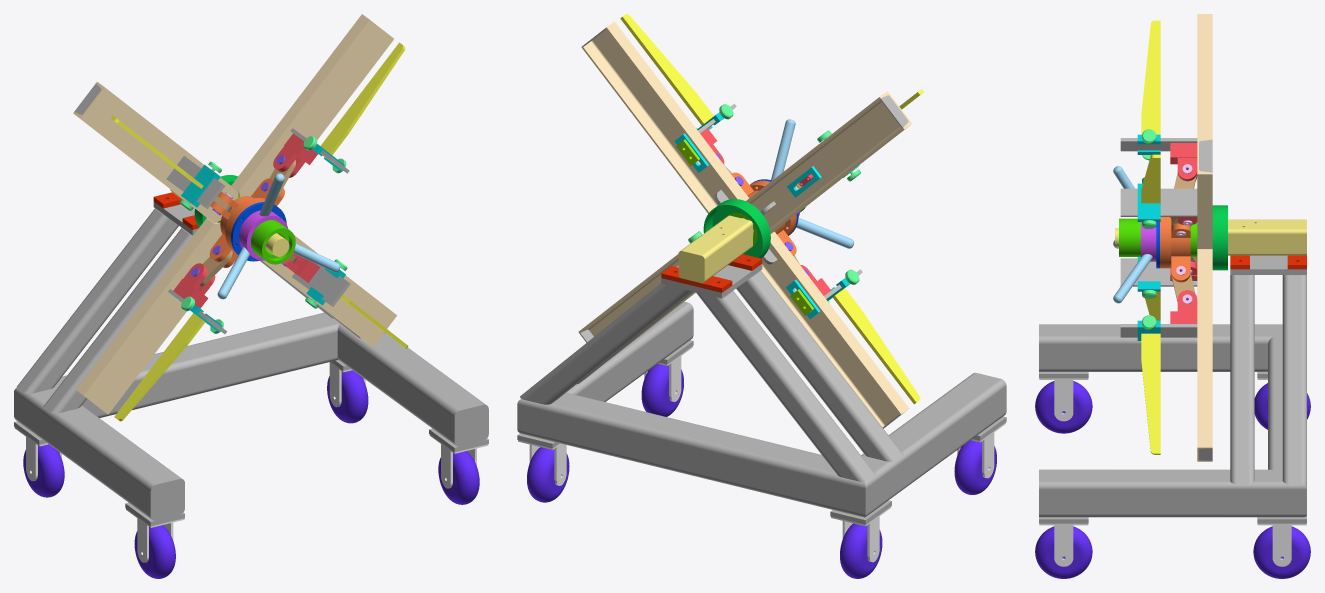
The picture shows the model from 3 angles, left to right: view 1: azimuth 30°, elevation 25°; view 2: azimuth 150°, elevation 25°; view 3: azimuth 270°, elevation 25°; orthographic projection. The views are drawn at different scales.
Visible parts, largest first — view 1: BANCADA DEVANADOR DUMAR-1, canal tornillo-9, canal tornillo-8, canal tornillo-10, canal tornillo-11, placa uno-2 (×2), bloque arrastre-1 (×2), regleta dado-1, regleta dado-4, cruceta #2-1, ruedas-3, ruedas-2 (+7 smaller); view 2: BANCADA DEVANADOR DUMAR-1, canal tornillo-8, canal tornillo-9, canal tornillo-10, eje soporte-1, regleta dado-4, regleta dado-1, canal tornillo-11, ruedas-2, ruedas-4, manzana freno-1, ruedas-3 (+7 smaller); view 3: BANCADA DEVANADOR DUMAR-1, placa uno-2 (×4), canal tornillo-11, eje soporte-1, canal tornillo-10, regleta dado-2, ruedas-3, ruedas-1, ruedas-2, regleta dado-3, cruceta #2-1, bloque arrastre-1 (×2) (+12 smaller).
Boxes of the visible parts, x1,y1,x2,y2 form: BANCADA DEVANADOR DUMAR-1: (14, 202, 488, 526); canal tornillo-9: (76, 218, 222, 414); canal tornillo-8: (231, 14, 393, 197); canal tornillo-10: (73, 82, 238, 222); canal tornillo-11: (262, 235, 396, 346); placa uno-2 (×2): (166, 156, 350, 306); bloque arrastre-1 (×2): (173, 133, 317, 308); regleta dado-1: (320, 42, 405, 155); regleta dado-4: (114, 313, 205, 421); cruceta #2-1: (209, 178, 284, 267); ruedas-3: (134, 525, 175, 578); ruedas-2: (327, 370, 368, 423); BANCADA DEVANADOR DUMAR-1: (517, 264, 1006, 524); canal tornillo-8: (581, 21, 749, 213); canal tornillo-9: (761, 231, 909, 427); canal tornillo-10: (746, 91, 912, 233); eje soporte-1: (678, 215, 753, 283); regleta dado-4: (832, 288, 920, 404); regleta dado-1: (620, 14, 713, 125); canal tornillo-11: (578, 254, 695, 359); ruedas-2: (527, 447, 569, 502); ruedas-4: (840, 523, 882, 578); manzana freno-1: (703, 199, 770, 258); ruedas-3: (954, 440, 996, 494); BANCADA DEVANADOR DUMAR-1: (1039, 255, 1306, 523); placa uno-2 (×4): (1120, 138, 1197, 337); canal tornillo-11: (1197, 249, 1212, 461); eje soporte-1: (1115, 219, 1306, 255); canal tornillo-10: (1197, 14, 1212, 137); regleta dado-2: (1141, 333, 1160, 454); ruedas-3: (1035, 381, 1092, 433); ruedas-1: (1035, 526, 1092, 578); ruedas-2: (1253, 526, 1310, 578); regleta dado-3: (1141, 20, 1160, 134); cruceta #2-1: (1160, 217, 1190, 282); bloque arrastre-1 (×2): (1170, 143, 1197, 323).
Size of the model in its own units: 1 by 1.24 by 0.72.
